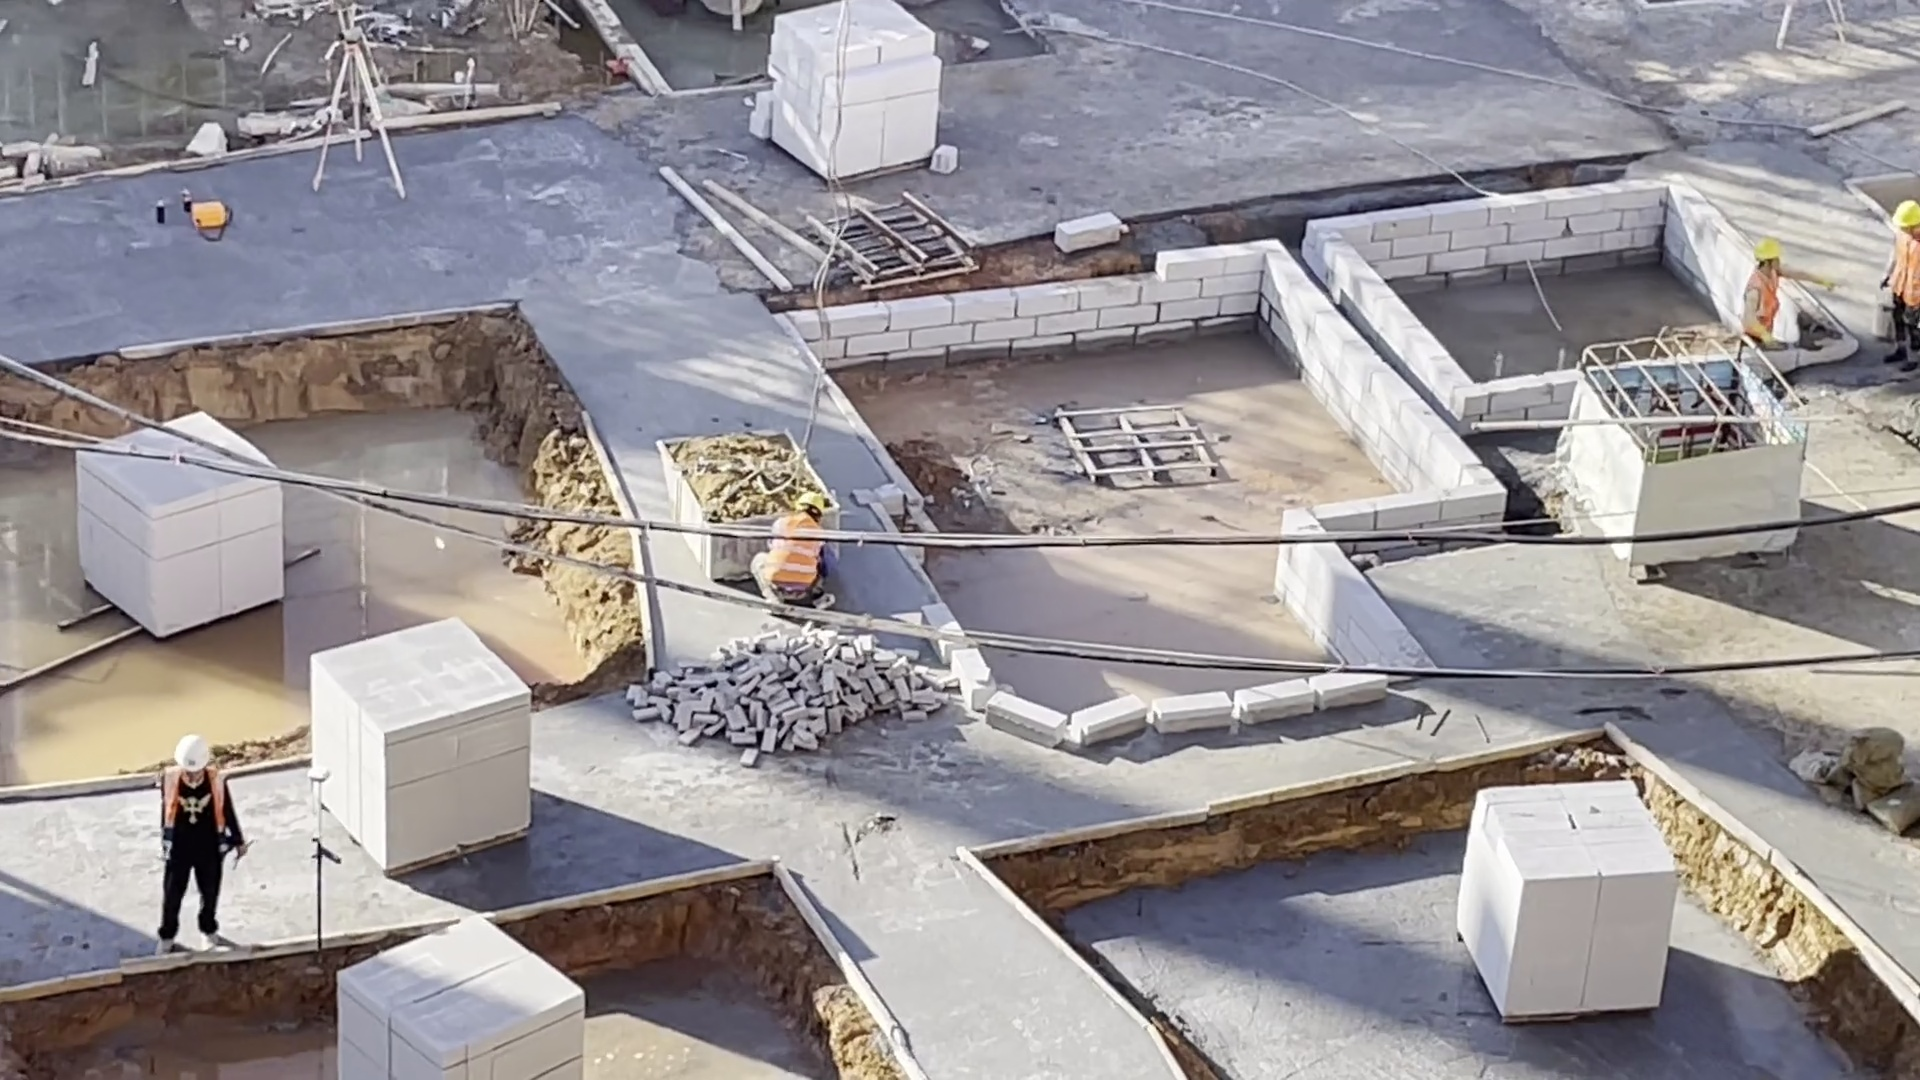helmet: (169, 733, 214, 775), (791, 491, 827, 521), (1749, 236, 1785, 263), (1890, 199, 1920, 229)
person: (158, 729, 254, 960), (1741, 238, 1839, 355), (749, 491, 839, 611), (1882, 199, 1920, 376)
vest: (156, 772, 228, 858), (763, 539, 827, 593), (1743, 269, 1783, 340), (1881, 233, 1920, 304)
